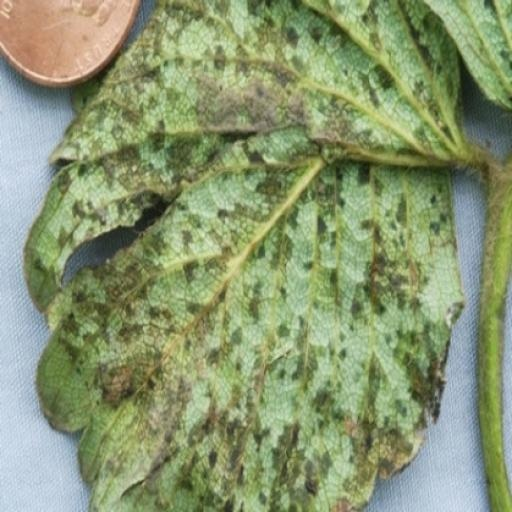Angular Leafspot: (23, 0, 471, 511), (429, 398, 511, 511)
